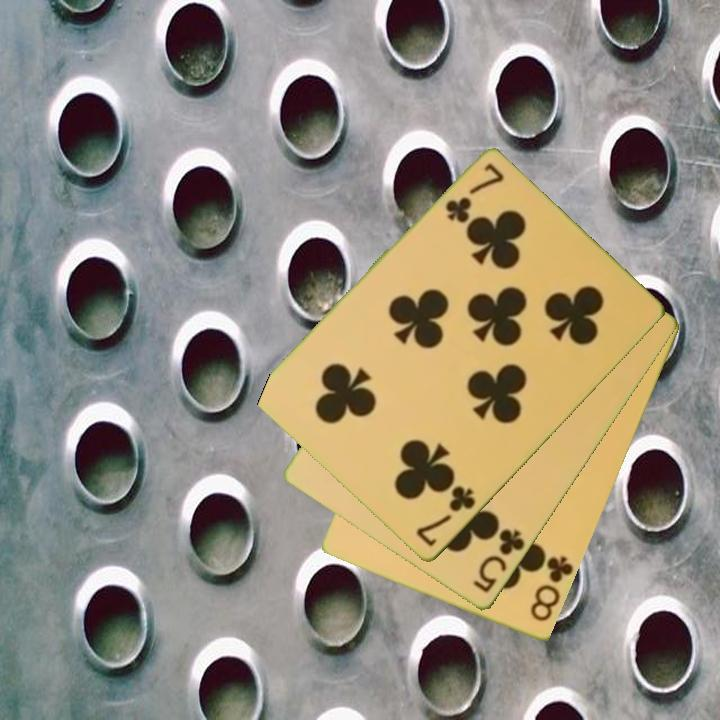5c: (469, 525, 529, 597)
7c: (412, 483, 479, 550), (442, 160, 506, 226)
8c: (527, 550, 576, 625)
